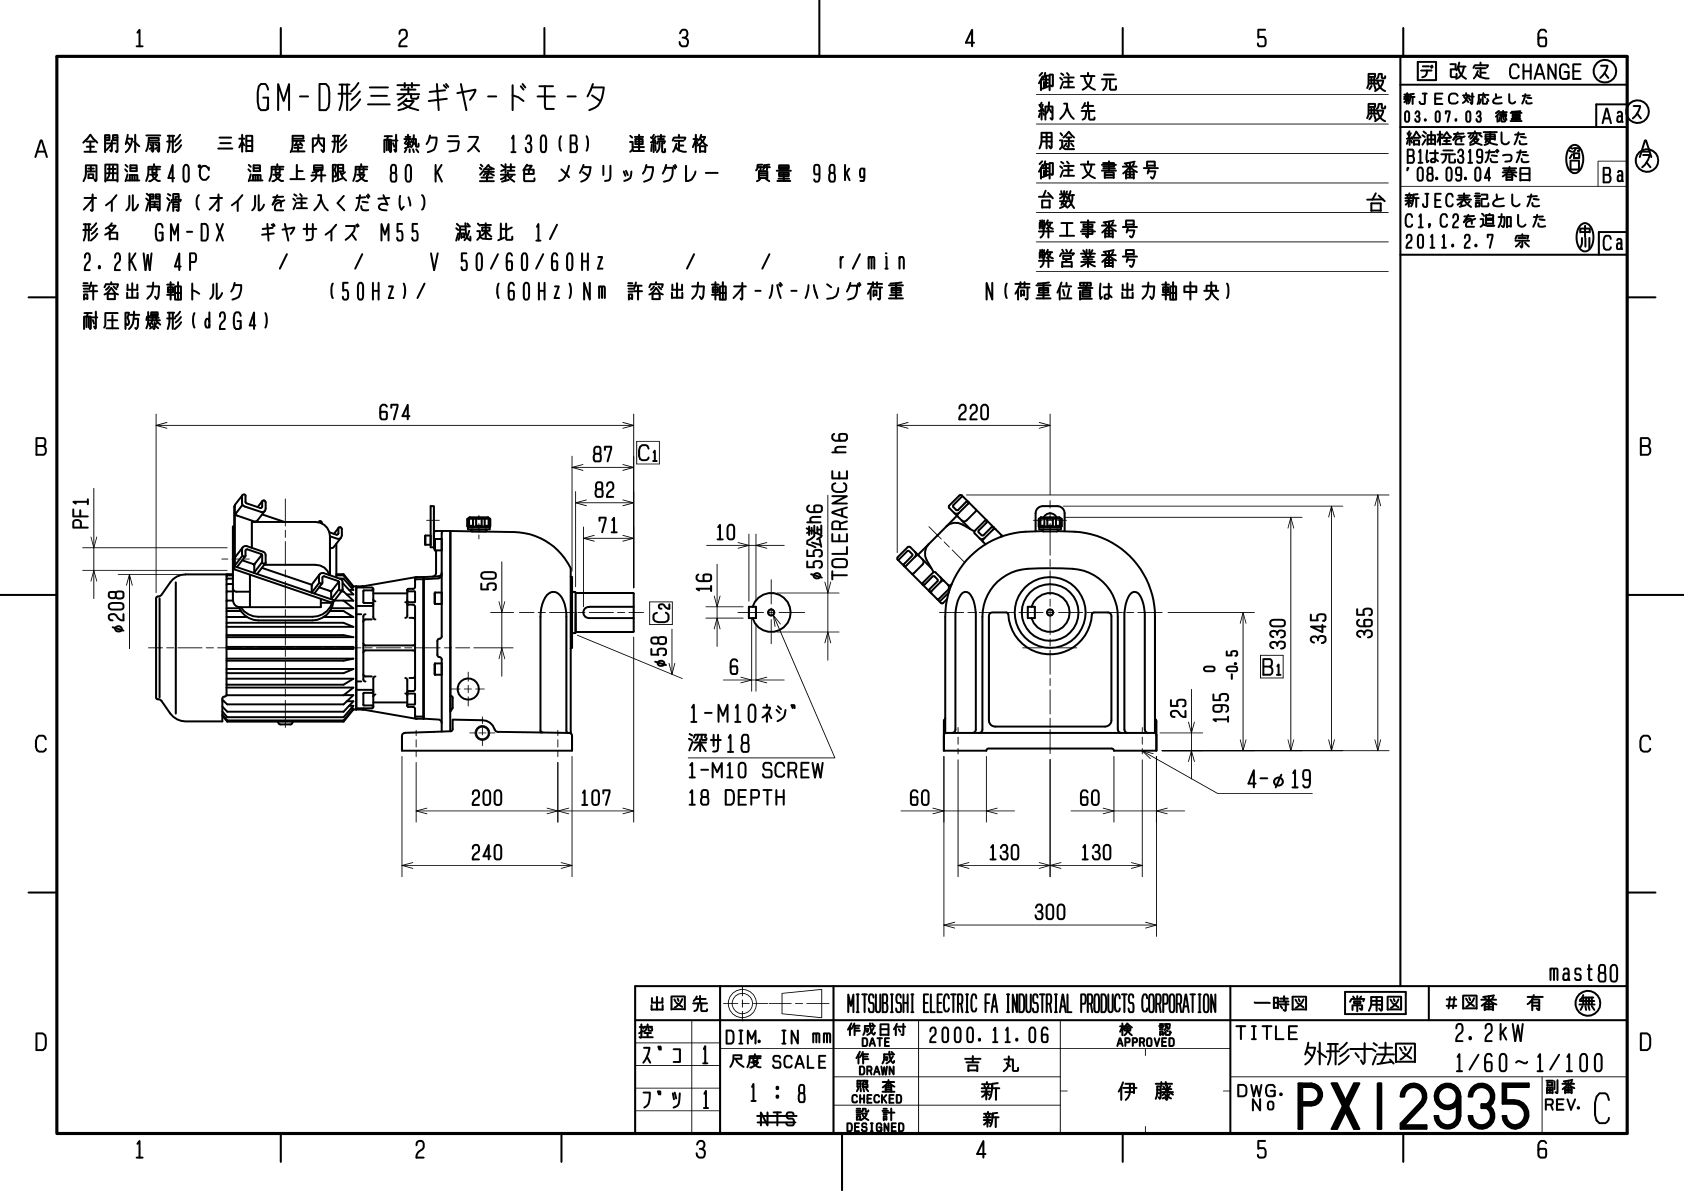GM_D_耐圧屋内_三相_脚: (63, 354, 1392, 967)
